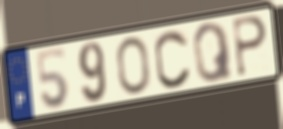5: (35, 44, 72, 112)
9: (78, 38, 111, 105)
C: (153, 28, 193, 91)
O: (114, 35, 152, 96)
P: (231, 14, 269, 79)
Q: (191, 20, 235, 85)
